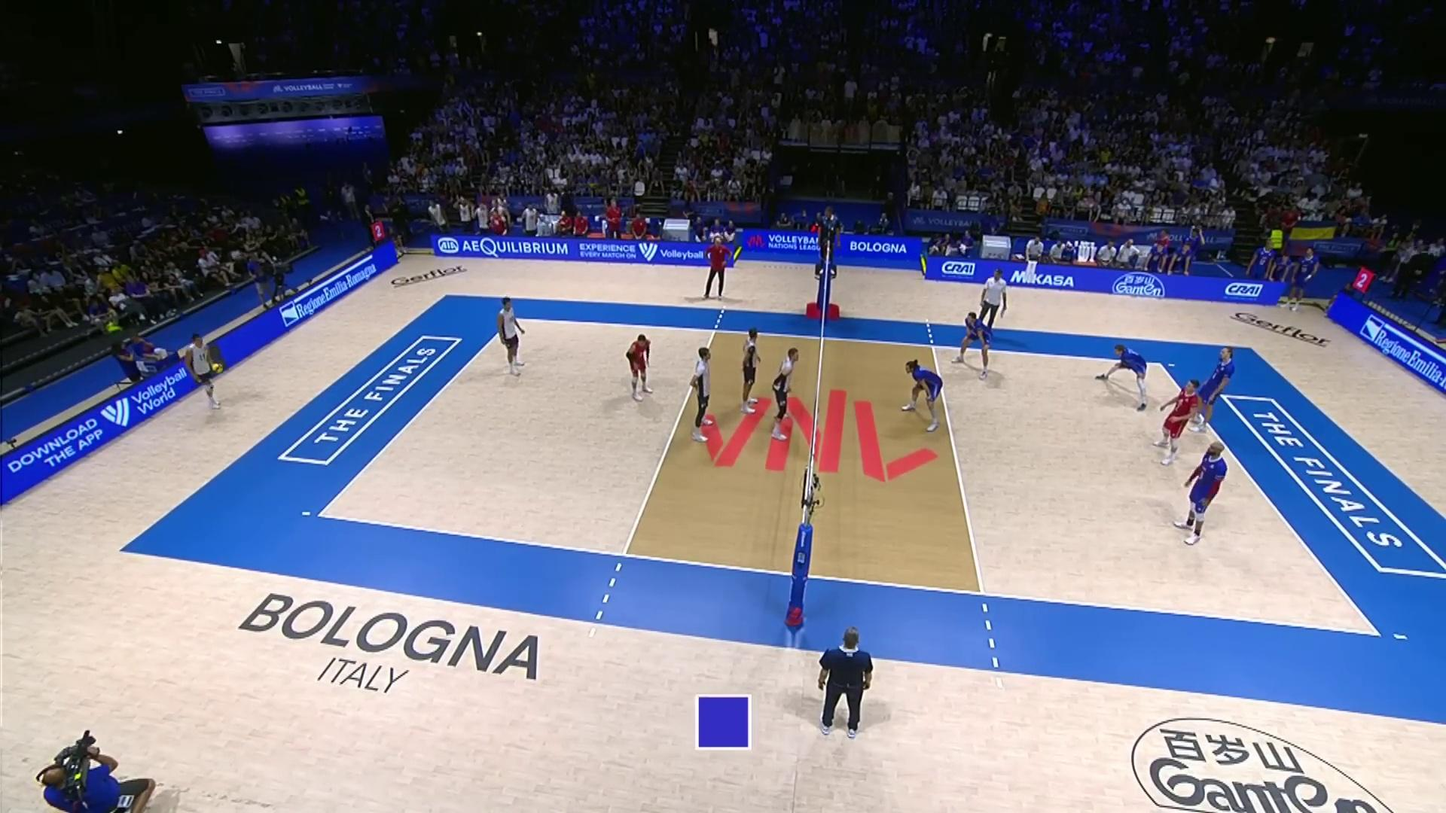player: (1170, 441, 1226, 548), (1156, 378, 1200, 466), (1096, 345, 1153, 410), (1191, 348, 1233, 436), (184, 334, 226, 414), (772, 348, 806, 439), (900, 362, 944, 431), (687, 345, 717, 444), (954, 308, 993, 382), (495, 298, 524, 374), (738, 330, 761, 422), (627, 334, 653, 400)
refree: (819, 628, 873, 738), (817, 206, 841, 272)
